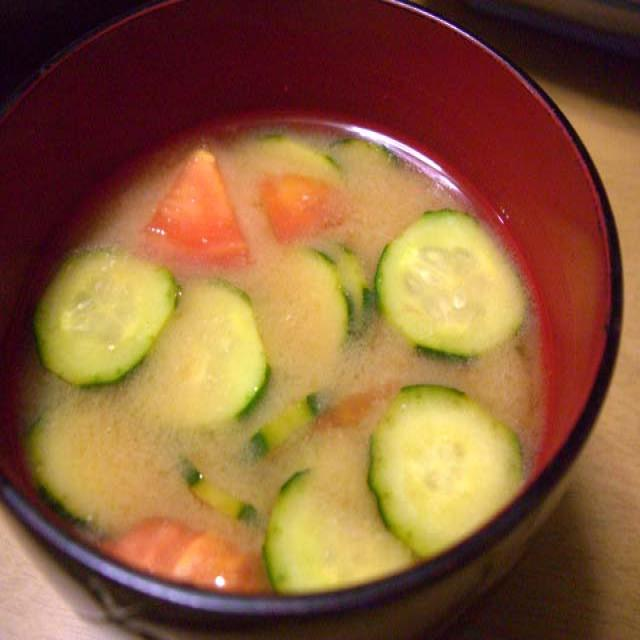汤锅炖物: (0, 0, 632, 640)
